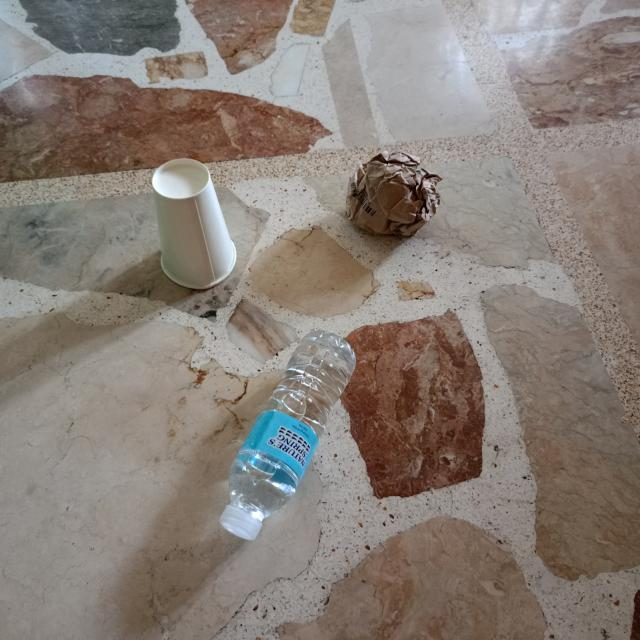recyclable waste: (202, 322, 380, 548), (138, 152, 246, 300), (334, 140, 448, 250)
